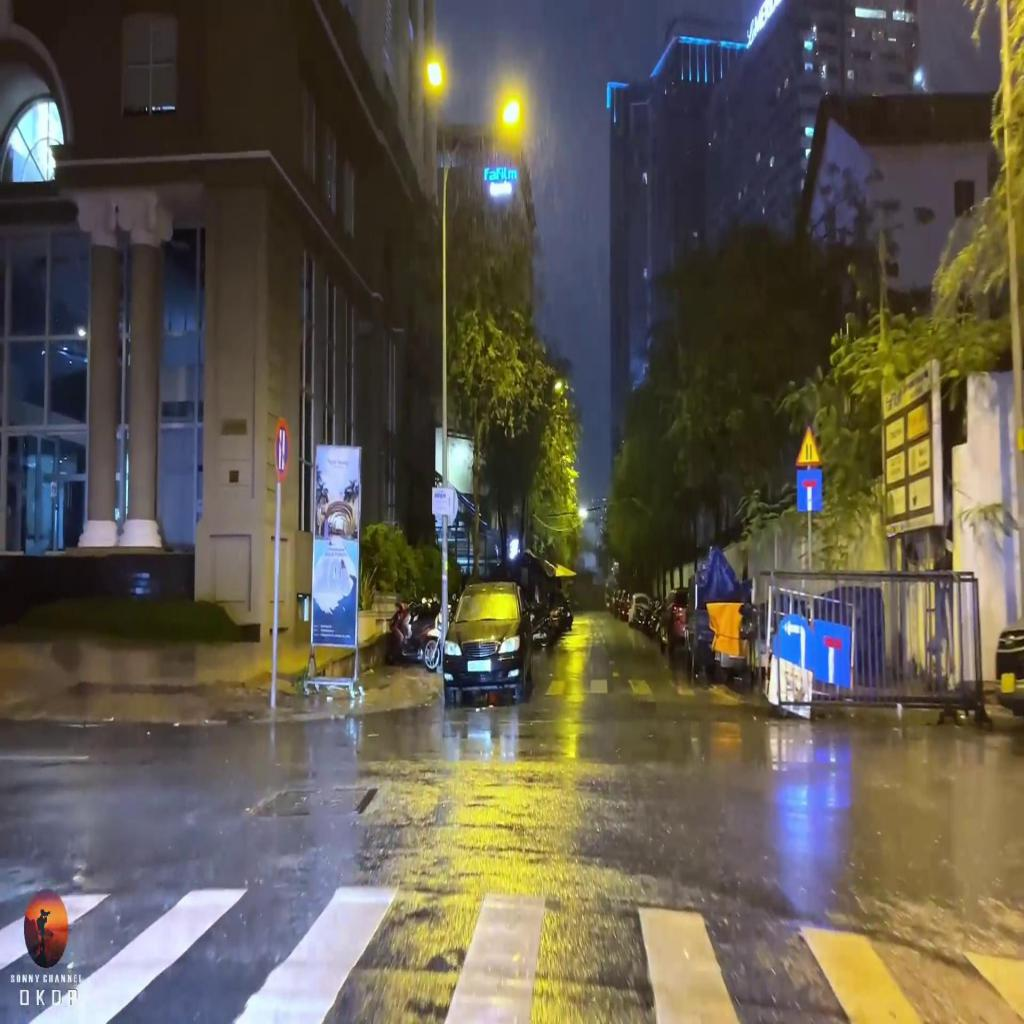cam_do_xe: (272, 414, 292, 484)
khac: (773, 612, 850, 686), (793, 423, 823, 469), (797, 469, 823, 514)
